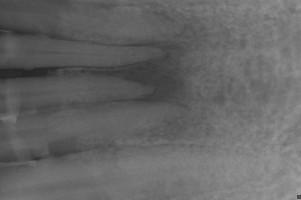Furcation Involvement: (73, 42, 190, 105)
